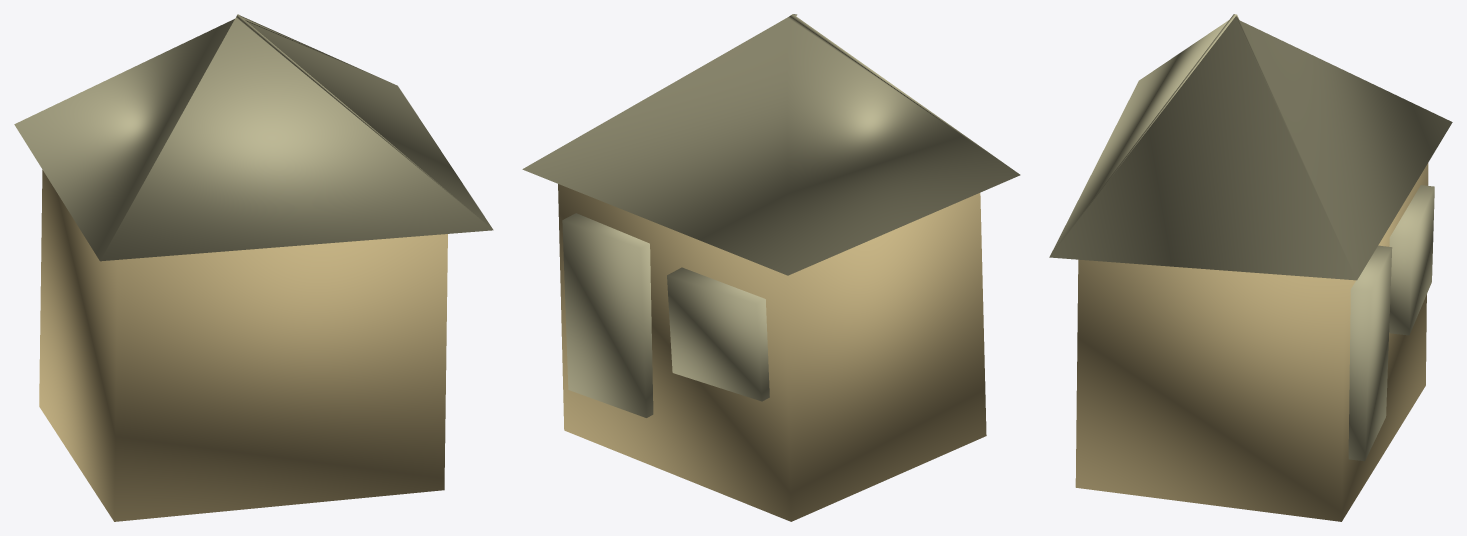
File: house.fbx
The picture shows the model from 3 angles, left to right: view 1: azimuth 30°, elevation 25°; view 2: azimuth 150°, elevation 25°; view 3: azimuth 270°, elevation 25°; orthographic projection. The views are drawn at different scales.
Visible parts, largest first — view 1: house; view 2: house; view 3: house.
Part boxes in pixels (x1=…): house: x1=14, y1=14, x2=493, y2=521; house: x1=522, y1=14, x2=1020, y2=521; house: x1=1049, y1=14, x2=1452, y2=521.
Size of the model in its own units: 1016 by 1049 by 911.
